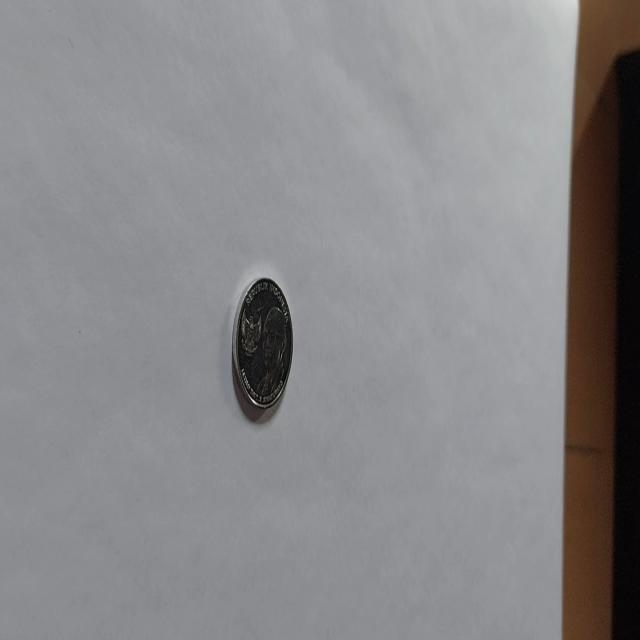lima ratus rupiah: (230, 274, 294, 416)
